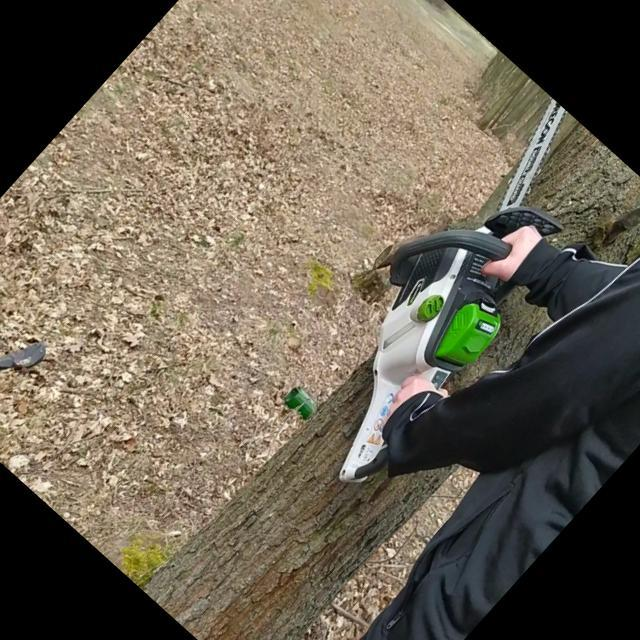Chainsaw: (248, 84, 640, 501)
